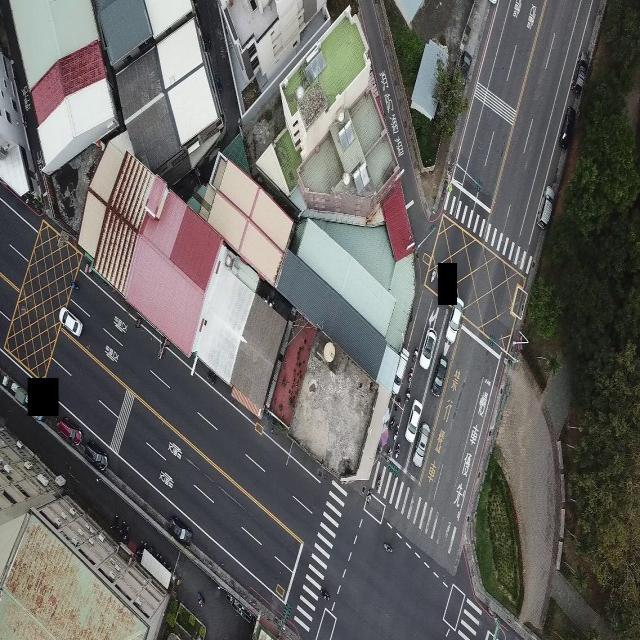bike: (382, 540, 394, 555)
car: (412, 422, 431, 466), (59, 306, 82, 338), (423, 320, 436, 376), (448, 296, 462, 348), (432, 355, 448, 395), (538, 184, 552, 225), (408, 398, 420, 440)
